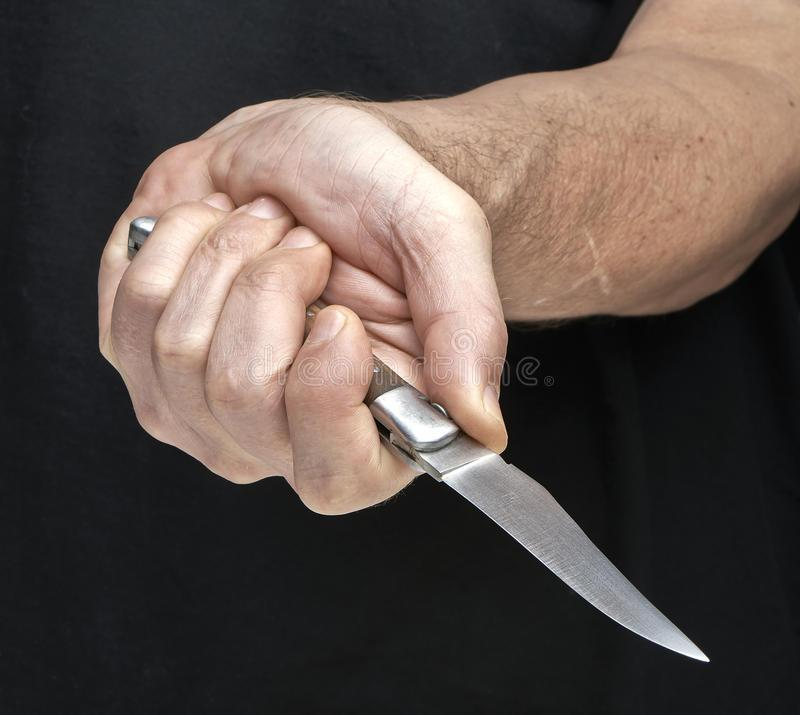weapon: (125, 212, 715, 666)
